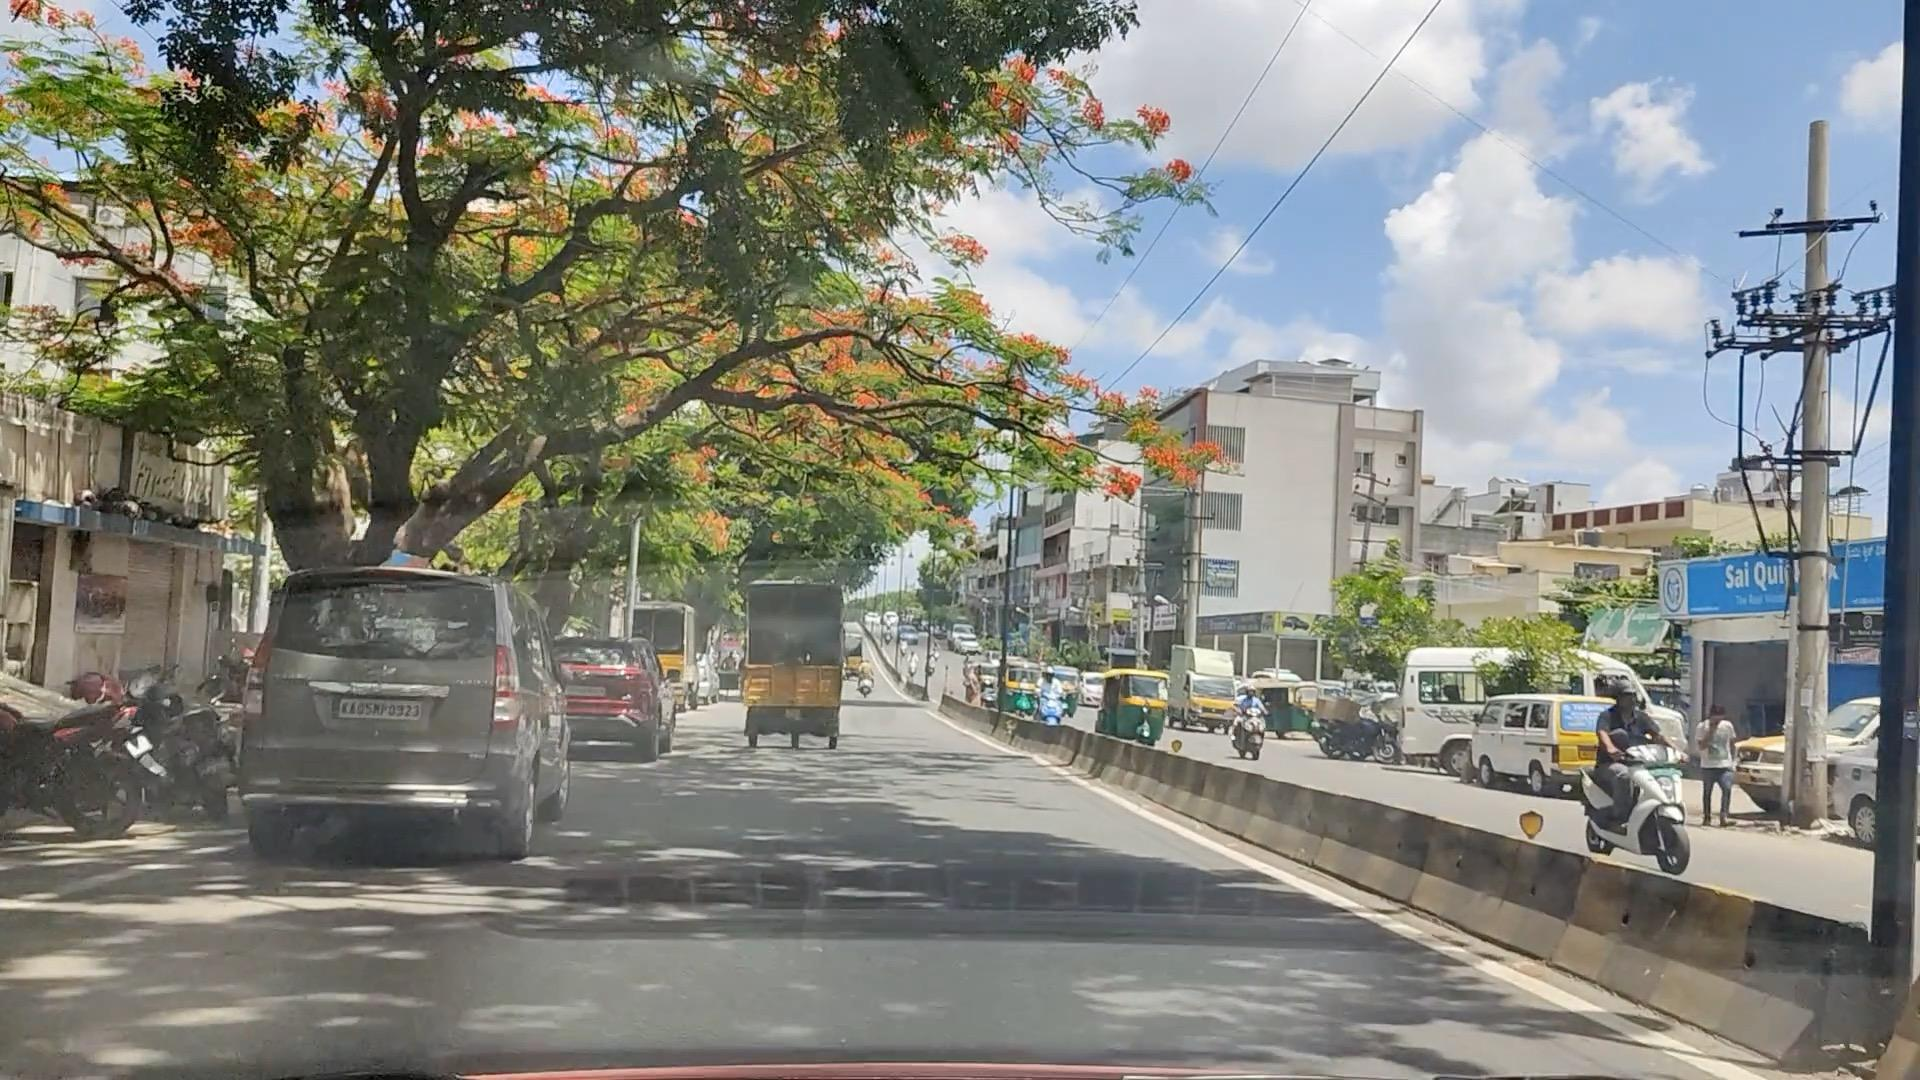HMV: (740, 576, 843, 741)
LMV: (251, 567, 529, 825)
